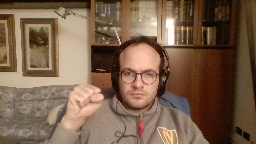Pugno: (60, 81, 106, 119)
